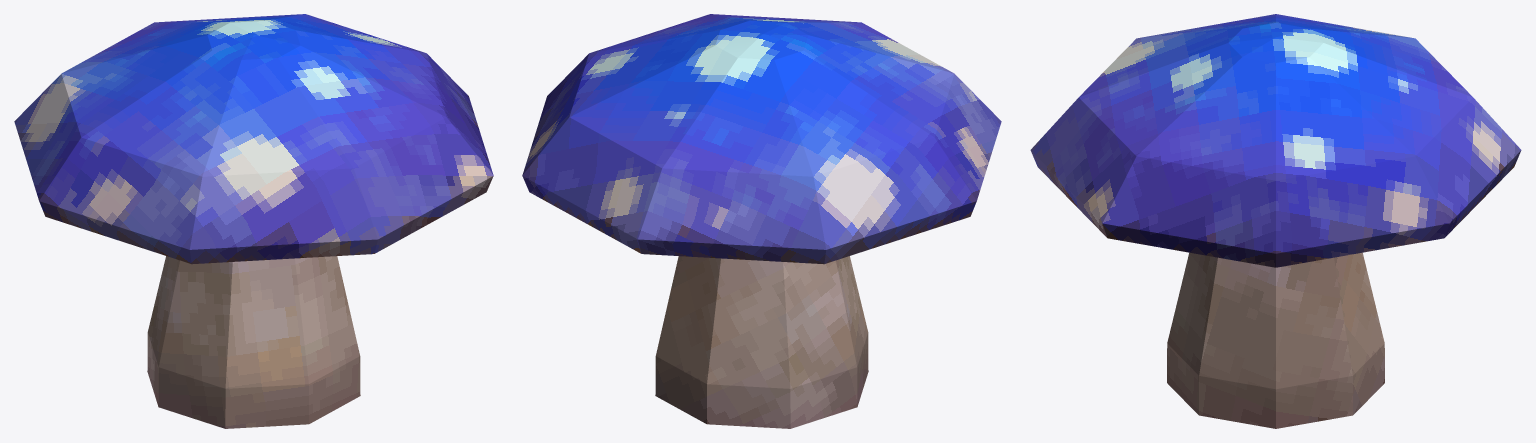
File: item_fungi_blue.glb
3 renders of one model, left to right at view 1: azimuth 30°, elevation 25°; view 2: azimuth 150°, elevation 25°; view 3: azimuth 270°, elevation 25°, orthographic.
Parts seen in each view (by area): view 1: Mushroom_Small; view 2: Mushroom_Small; view 3: Mushroom_Small.
Boxes of the visible parts, x1,y1,x2,y2 form: Mushroom_Small: (14,14,493,428); Mushroom_Small: (522,14,1001,428); Mushroom_Small: (1030,14,1521,428).
Size of the model in its own units: 0.1485 by 0.1188 by 0.1485.
Materials: 1 (1 with a texture image).
